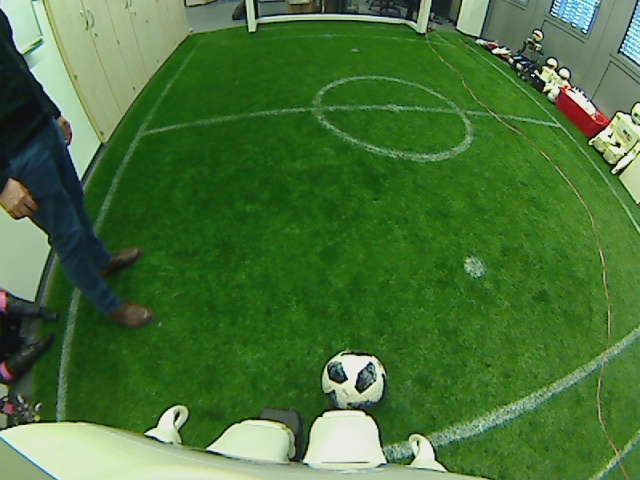ball: (321, 347, 389, 411)
